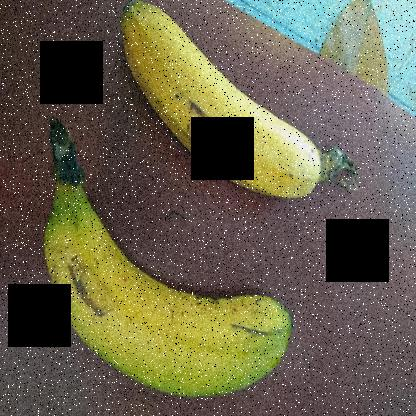freshripe: (110, 6, 328, 200)
ripe: (40, 186, 314, 415)
